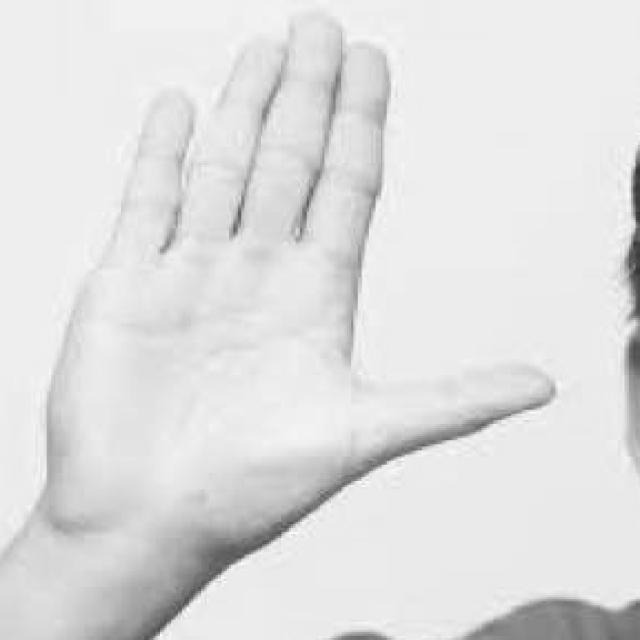stop: (35, 5, 564, 556)
